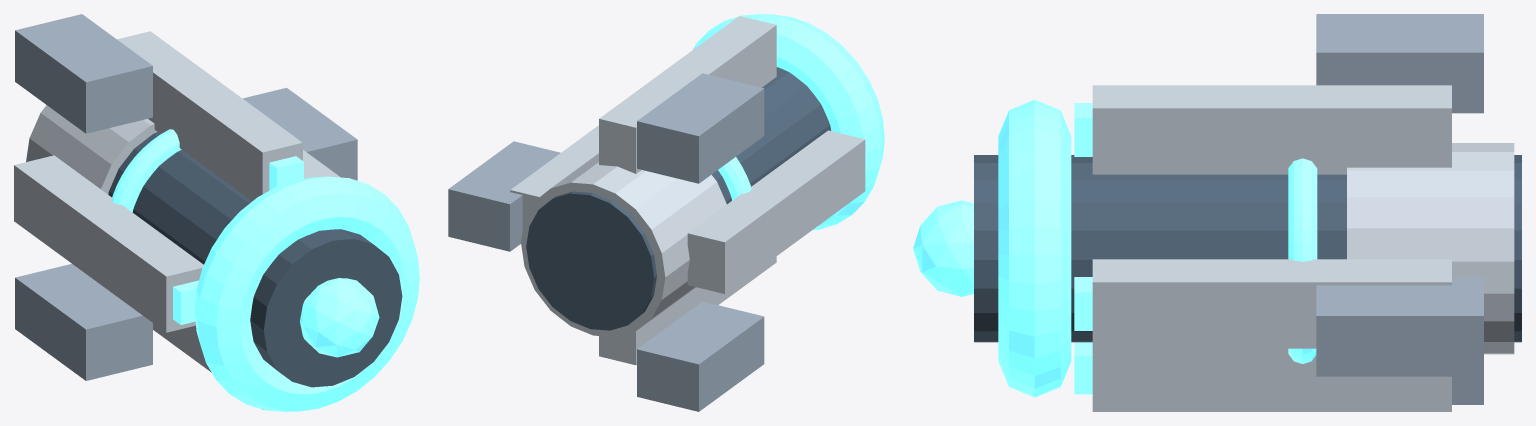
File: pulsar-7.glb
3 renders of one model, left to right at view 1: azimuth 30°, elevation 25°; view 2: azimuth 150°, elevation 25°; view 3: azimuth 270°, elevation 25°, orthographic. The views are drawn at different scales.
Visible parts, largest first — view 1: Emitter3, Barrel0, ArmorFin9, ArmorFin7, JetPod14, JetPod15, Housing1, Muzzle4, JetPod13, Capacitor16, ArmorFin11, Lumen10 (+2 smaller); view 2: Barrel0, ArmorFin9, Housing1, JetPod14, JetPod15, Emitter3, ArmorFin7, JetPod13, ArmorFin11, ArmorFin5, Capacitor16; view 3: ArmorFin7, Barrel0, ArmorFin5, Housing1, Emitter3, ArmorFin11, JetPod13, JetPod14, Muzzle4, Capacitor16, Lumen6, Lumen8 (+2 smaller).
Boxes of the visible parts, x1,y1,x2,y2 form: Emitter3: (194,176,419,411); Barrel0: (108,132,402,387); ArmorFin9: (14,155,203,332); ArmorFin7: (117,31,302,200); JetPod14: (15,14,152,133); JetPod15: (15,264,152,380); Housing1: (26,105,157,194); Muzzle4: (300,278,379,357); JetPod13: (243,87,357,180); Capacitor16: (111,129,181,212); ArmorFin11: (153,323,262,409); Lumen10: (173,280,198,324); Barrel0: (526,67,831,330); ArmorFin9: (687,130,865,293); Housing1: (521,153,726,337); JetPod14: (637,73,764,183); JetPod15: (637,301,764,411); Emitter3: (693,14,884,230); ArmorFin7: (599,16,776,173); JetPod13: (448,141,560,251); ArmorFin11: (599,256,776,365); ArmorFin5: (510,125,598,229); Capacitor16: (718,157,751,200); ArmorFin7: (1092,85,1451,174); Barrel0: (974,155,1521,342); ArmorFin5: (1092,259,1451,348); Housing1: (1347,143,1514,354); Emitter3: (998,99,1071,397); ArmorFin11: (1092,348,1451,411); JetPod13: (1316,277,1483,376); JetPod14: (1316,14,1483,113); Muzzle4: (913,200,973,296); Capacitor16: (1288,158,1317,363); Lumen6: (1074,277,1092,330); Lumen8: (1074,103,1092,156).
Bounding box in the file's own units: 1.28 × 1.28 × 2.
